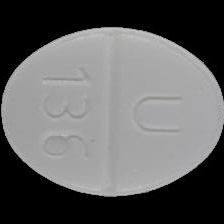0615-7948: (0, 0, 224, 224)
